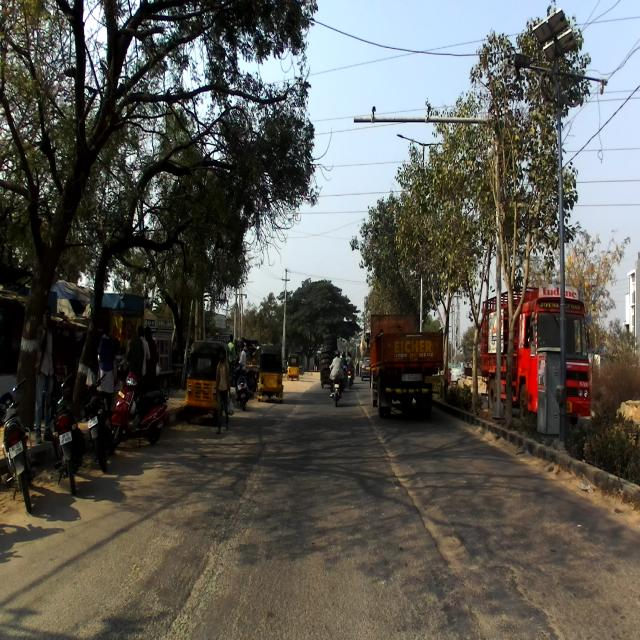auto ahead at: (182, 344, 222, 422), (256, 340, 282, 400)
motorcycle ahead at: (0, 368, 36, 524), (44, 370, 86, 498), (114, 372, 166, 448)
person ahead at: (214, 348, 234, 438)
truck ahead at: (365, 310, 449, 422)
